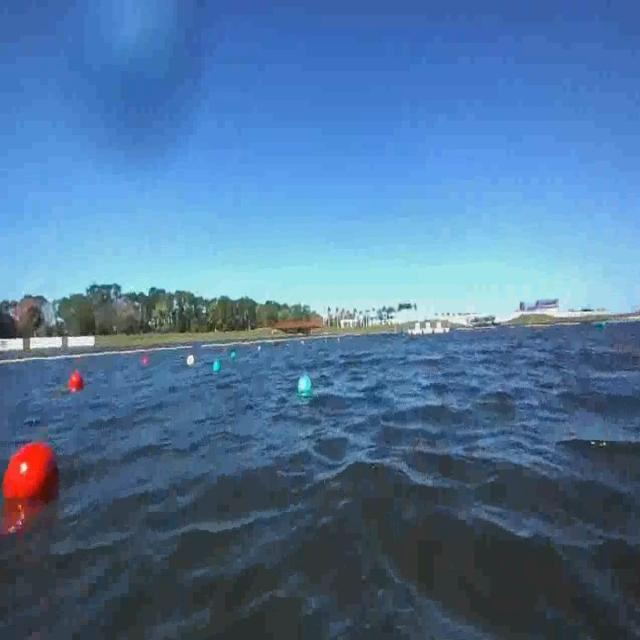green-buoy: (296, 375, 312, 399), (212, 358, 222, 373), (229, 350, 237, 362)
red-buoy: (1, 434, 67, 512), (70, 370, 86, 393), (141, 350, 150, 369)
yellow-buoy: (185, 351, 196, 368)
